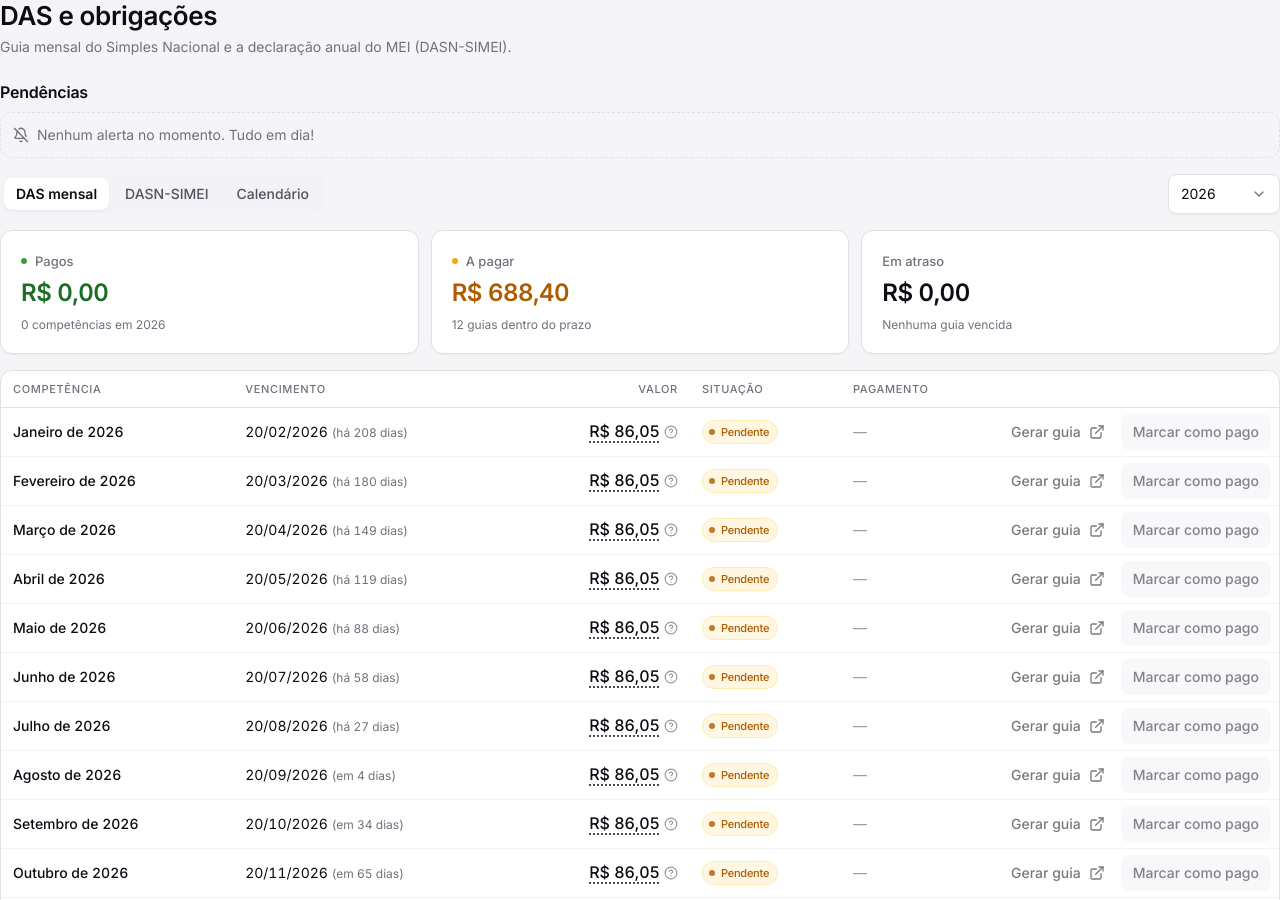
it: DasPage › mostra o DAS mensal com o valor de serviços (R$ 86,05) e marca janeiro como pago
The image size is (1280, 900).
Step 1. Click the button with aria-label "Marcar DAS de janeiro de 2026 como pago" → (1196, 432), box [1121, 414, 1271, 450]
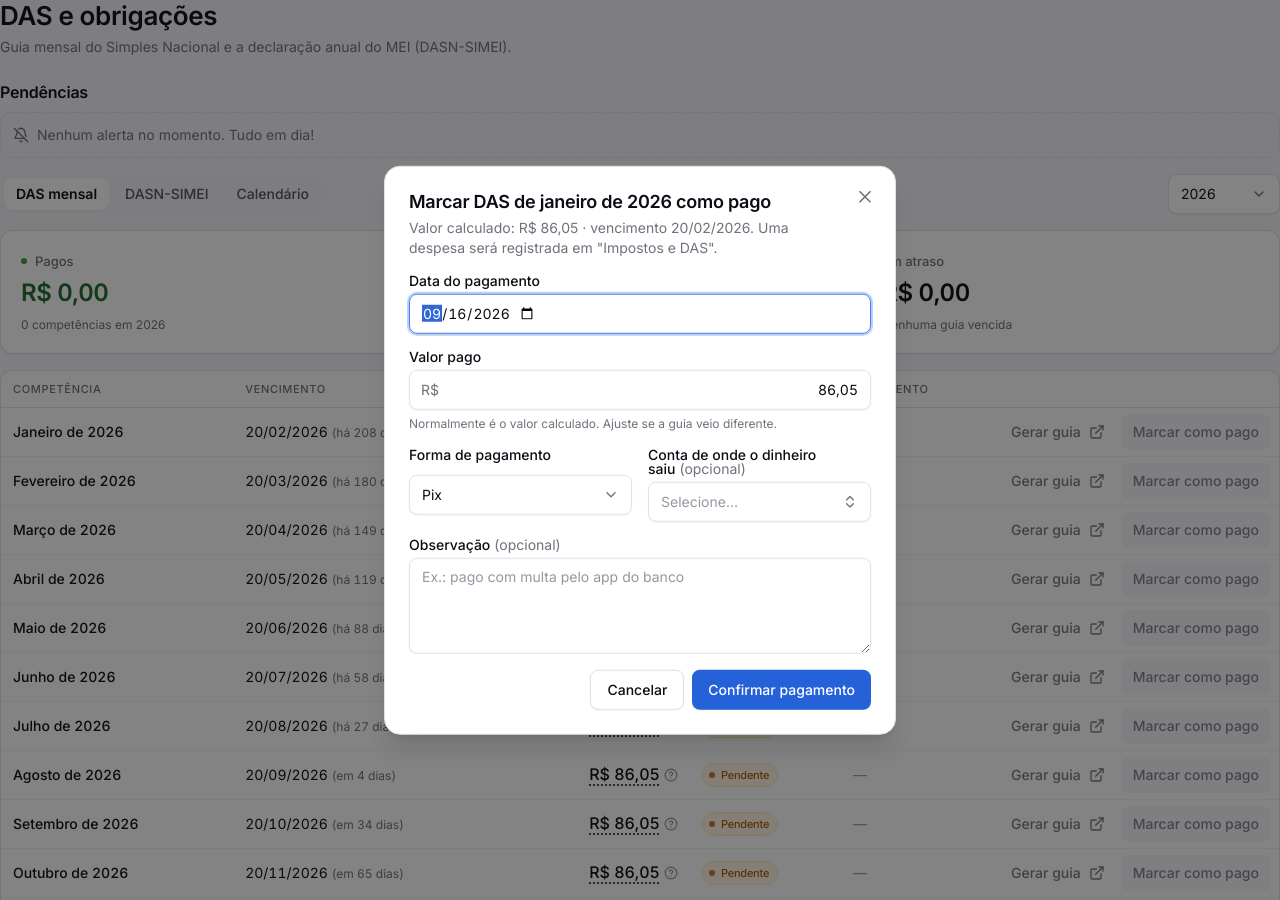
Step 2. Click the button "Confirmar pagamento" → (782, 689), box [692, 669, 871, 709]
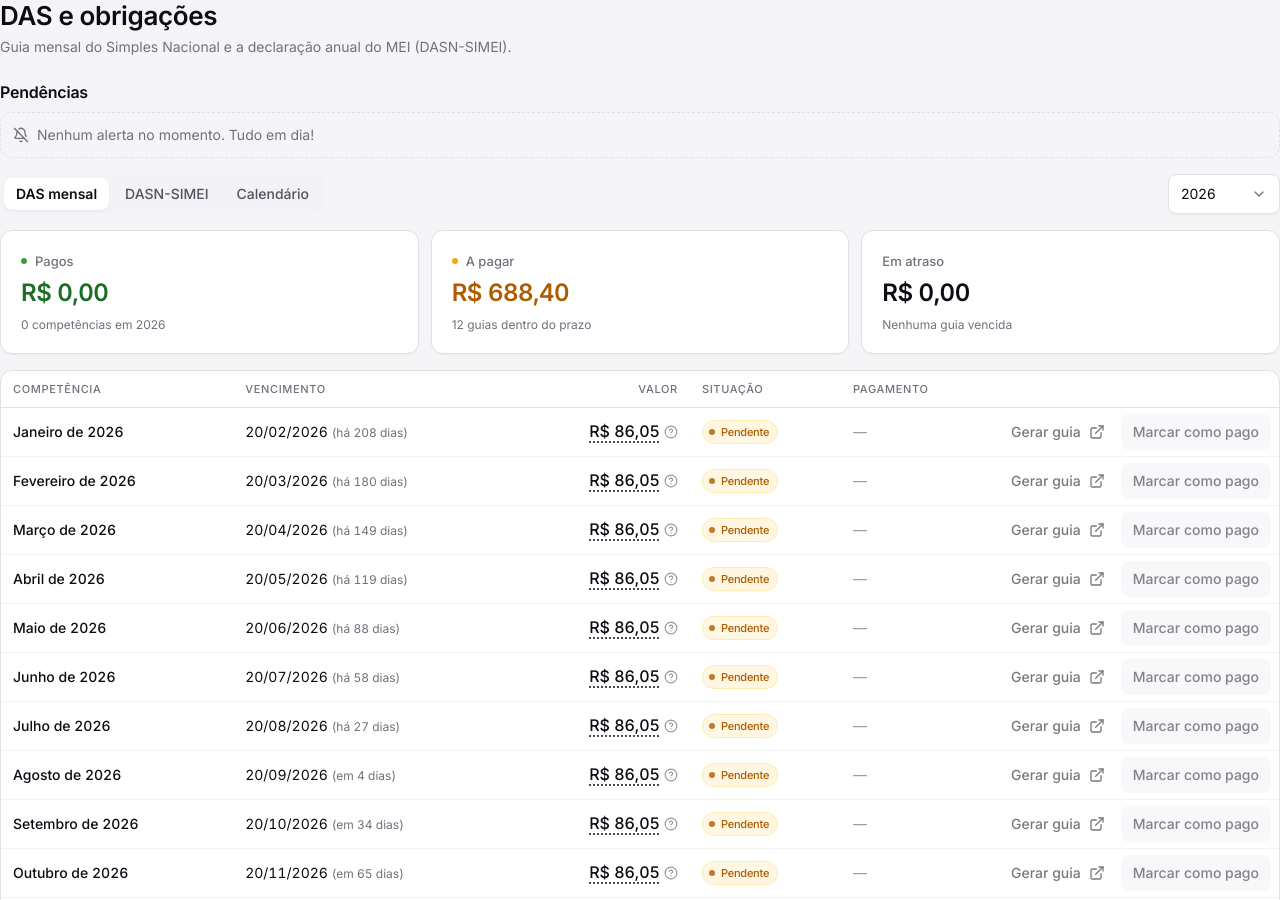
Check: the dialog is gone
